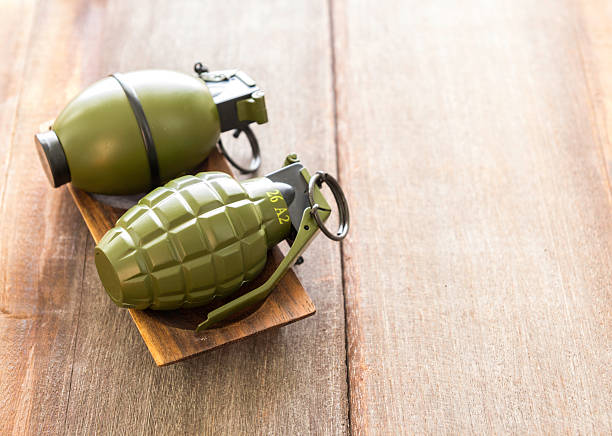e1: (98, 165, 350, 327), (30, 54, 270, 184)
